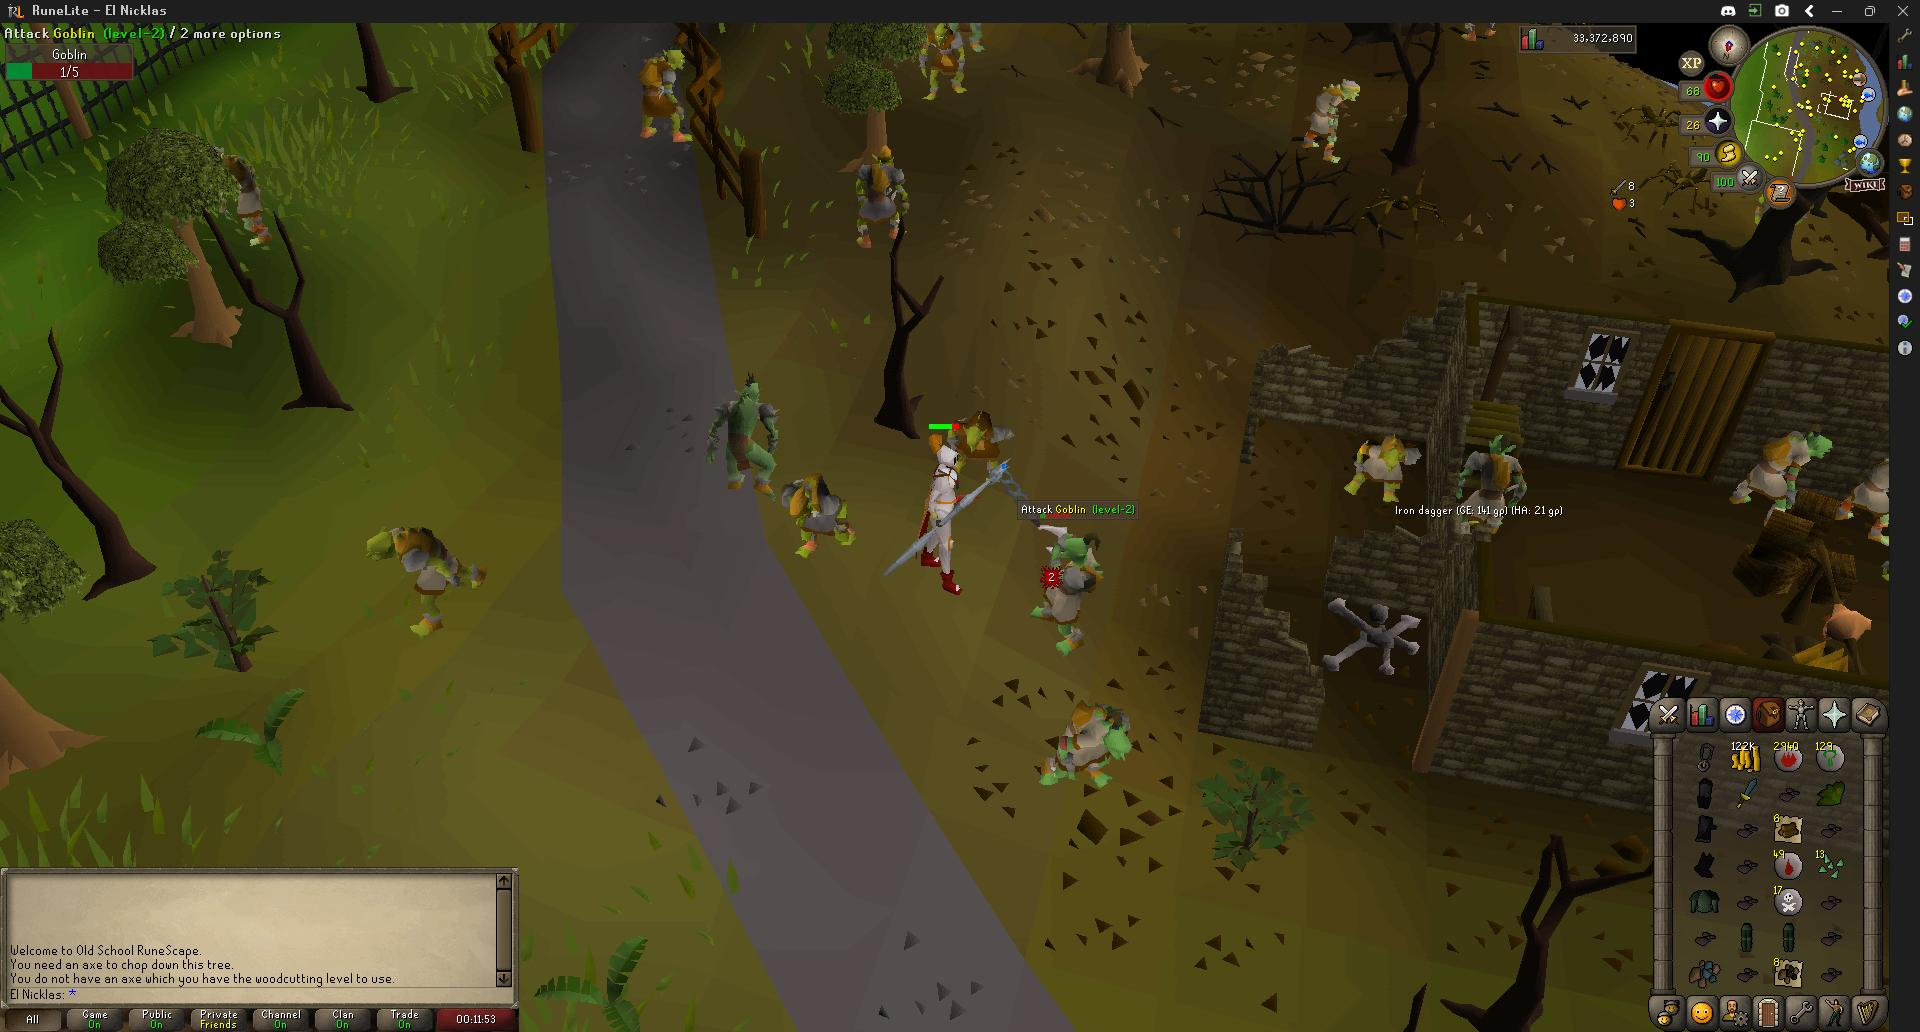Player: (914, 437, 972, 595)
goblin: (364, 521, 488, 635), (1727, 431, 1835, 522), (709, 373, 784, 496), (1029, 525, 1102, 642), (1454, 433, 1529, 540), (1040, 700, 1130, 788), (777, 472, 853, 556), (853, 143, 909, 248), (1341, 435, 1419, 505), (219, 152, 272, 249), (639, 46, 690, 143), (1306, 77, 1361, 166), (920, 21, 974, 98)
